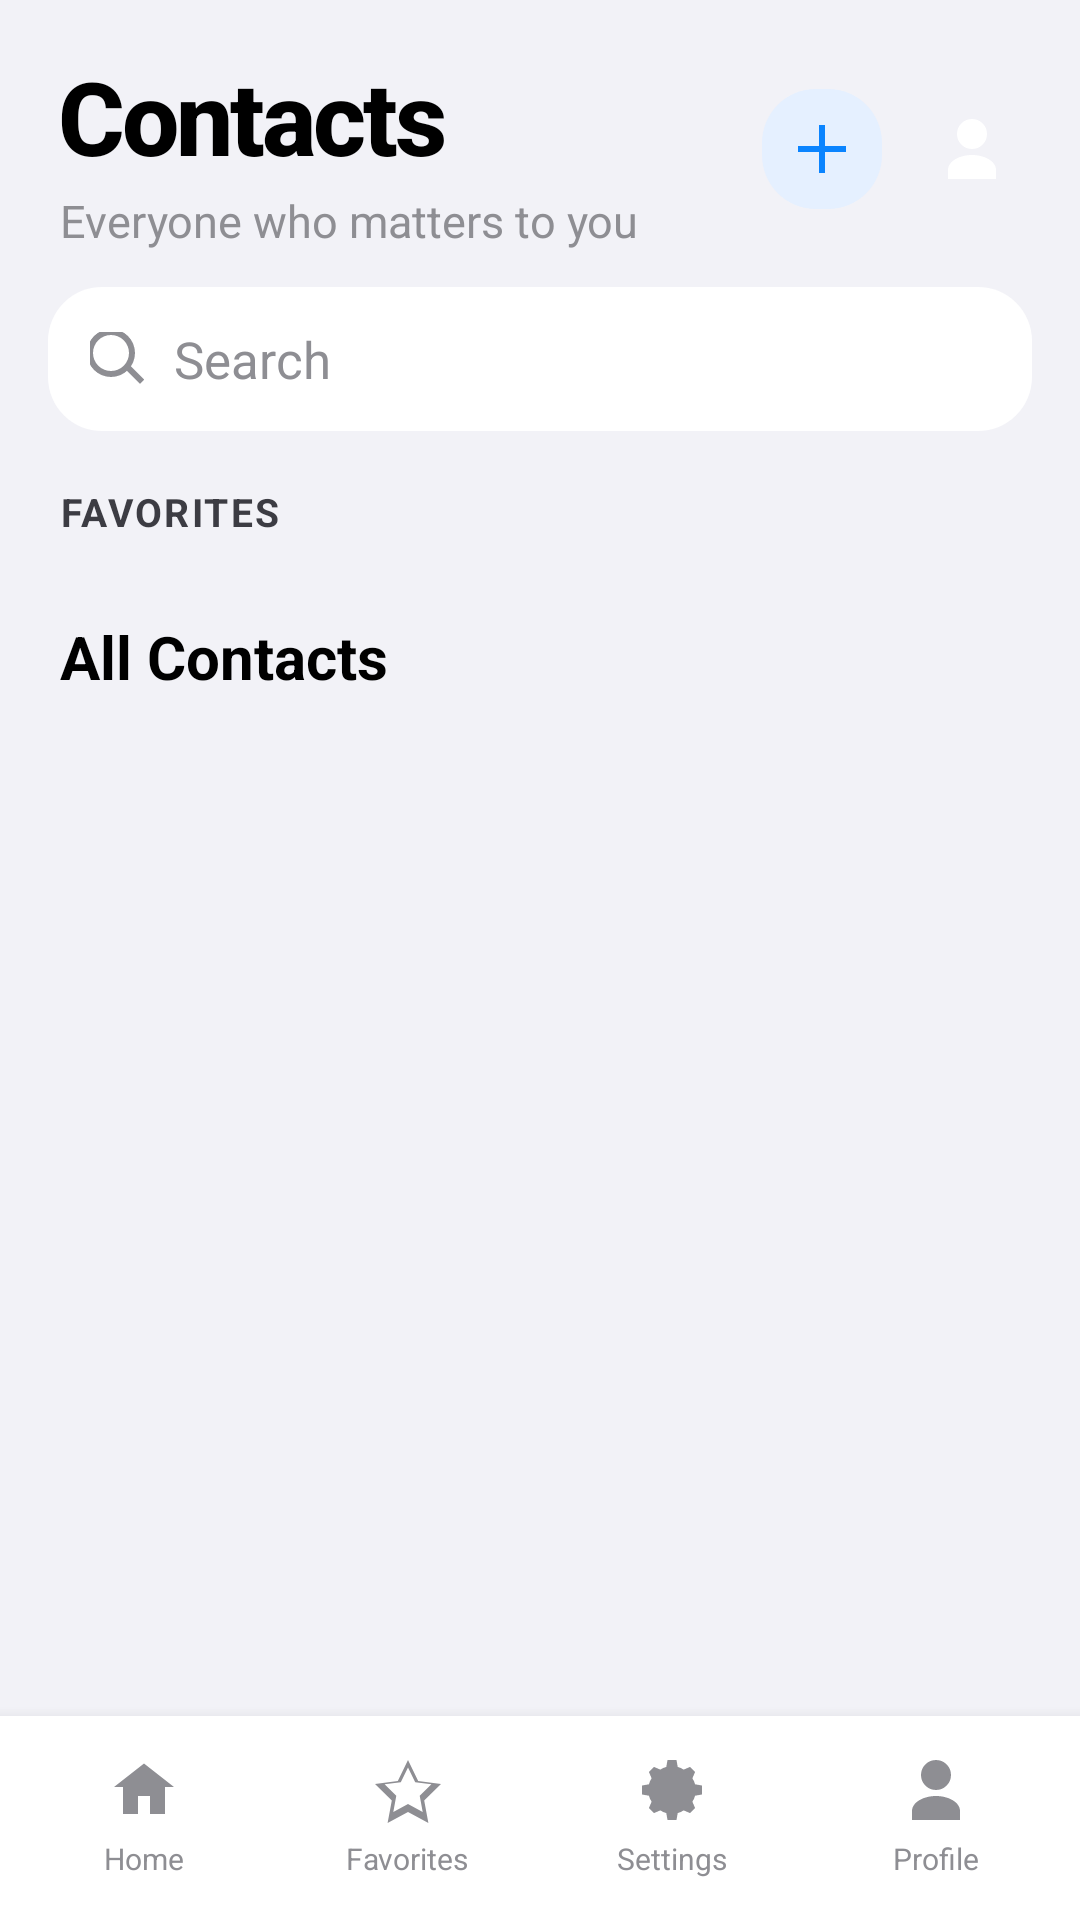

Point at icon controls on the screen. Image size 1080w x 1920h, points as (x,y).
Add Contact: (822,149)
